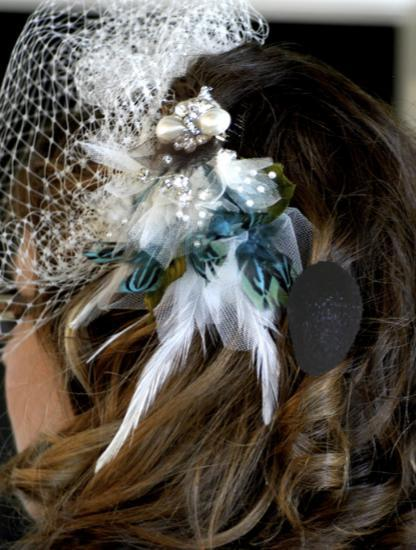Avocado: (267, 262, 382, 377)
